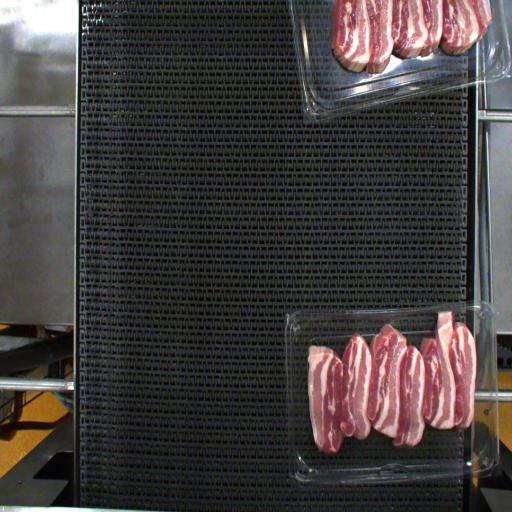packaging-error: (432, 306, 455, 324)
twisted-meat: (423, 304, 452, 444)
